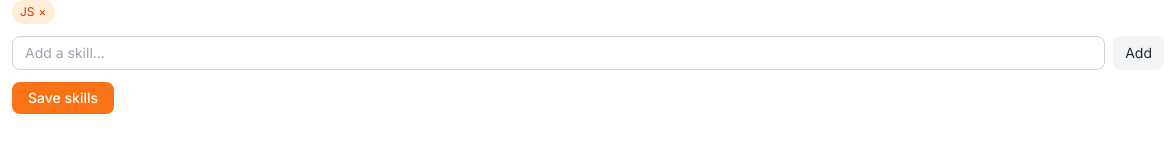
Test: SkillsEditor › shows "Saving…" text while the save request is in flight
Click the button "Save skills".
click(63, 98)  # box 12,82 -> 114,114
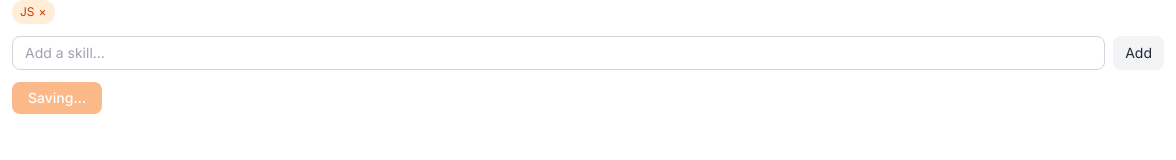
Now the button "Saving…" is shown, box 12,82 -> 102,114
